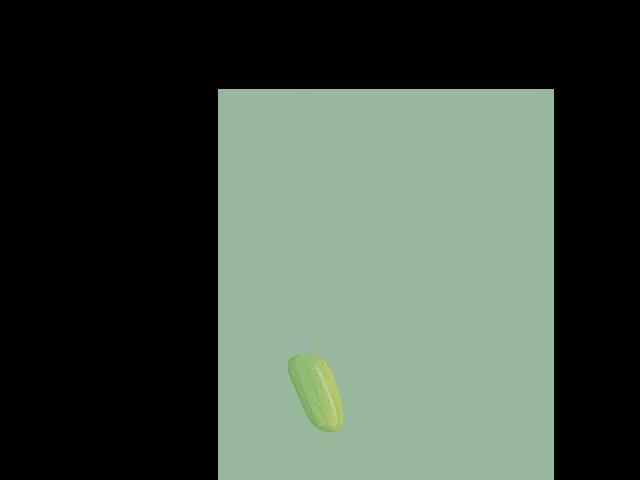cucumber: (287, 354, 343, 432)
